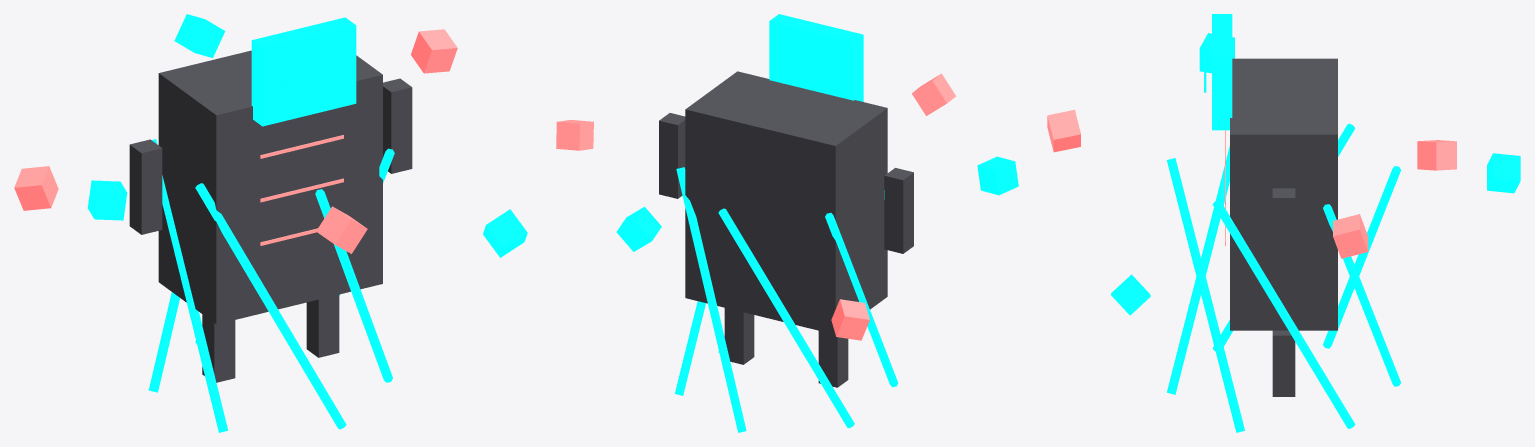
File: boss_ai_overlord.glb
3 views of the same model, side by side, from view 1: azimuth 30°, elevation 25°; view 2: azimuth 150°, elevation 25°; view 3: azimuth 270°, elevation 25° (orthographic). The views are drawn at different scales.
Visible parts, largest first — view 1: Cube, Cube.001, Cube.003, Cylinder.004, Cube.004, Cylinder.003, Cube.012, Cylinder.005, Cube.011, Cube.005, Cube.007, Cube.006 (+5 smaller); view 2: Cube, Cube.001, Cube.003, Cylinder.001, Cylinder.002, Cube.004, Cube.012, Cylinder.003, Cube.011, Cube.008, Cube.007, Cube.006 (+3 smaller); view 3: Cube, Cylinder.005, Cylinder, Cube.001, Cube.004, Cylinder.004, Cube.012, Cylinder.001, Cylinder.002, Cube.005, Cube.006, Cube.007 (+3 smaller).
Part boxes in pixels (x1=…): Cube: x1=158, y1=50, x2=382, y2=324; Cube.001: x1=251, y1=17, x2=356, y2=126; Cube.003: x1=129, y1=139, x2=162, y2=234; Cylinder.004: x1=195, y1=183, x2=346, y2=429; Cube.004: x1=383, y1=78, x2=412, y2=173; Cylinder.003: x1=151, y1=139, x2=228, y2=432; Cube.012: x1=306, y1=294, x2=339, y2=357; Cylinder.005: x1=315, y1=189, x2=392, y2=382; Cube.011: x1=202, y1=314, x2=235, y2=382; Cube.005: x1=411, y1=29, x2=457, y2=73; Cube.007: x1=14, y1=166, x2=58, y2=210; Cube.006: x1=174, y1=14, x2=225, y2=57; Cube: x1=685, y1=71, x2=887, y2=334; Cube.001: x1=769, y1=14, x2=863, y2=101; Cube.003: x1=884, y1=168, x2=913, y2=253; Cylinder.001: x1=676, y1=167, x2=746, y2=432; Cylinder.002: x1=718, y1=208, x2=854, y2=428; Cube.004: x1=659, y1=113, x2=685, y2=198; Cube.012: x1=724, y1=308, x2=754, y2=364; Cylinder.003: x1=825, y1=213, x2=898, y2=387; Cube.011: x1=818, y1=331, x2=848, y2=387; Cube.008: x1=977, y1=156, x2=1018, y2=195; Cube.007: x1=831, y1=299, x2=869, y2=340; Cube.006: x1=616, y1=206, x2=661, y2=251; Cube: x1=1230, y1=58, x2=1337, y2=330; Cylinder.005: x1=1167, y1=158, x2=1244, y2=432; Cylinder: x1=1212, y1=200, x2=1355, y2=428; Cube.001: x1=1212, y1=14, x2=1232, y2=130; Cube.004: x1=1272, y1=188, x2=1295, y2=274; Cylinder.004: x1=1167, y1=146, x2=1229, y2=394; Cube.012: x1=1272, y1=330, x2=1295, y2=396; Cylinder.001: x1=1323, y1=204, x2=1400, y2=386; Cylinder.002: x1=1323, y1=166, x2=1400, y2=348; Cube.005: x1=1333, y1=214, x2=1368, y2=258; Cube.006: x1=1487, y1=153, x2=1520, y2=193; Cube.007: x1=1417, y1=140, x2=1456, y2=170.
Size of the model in its own units: 14.5 by 12.17 by 14.7.
